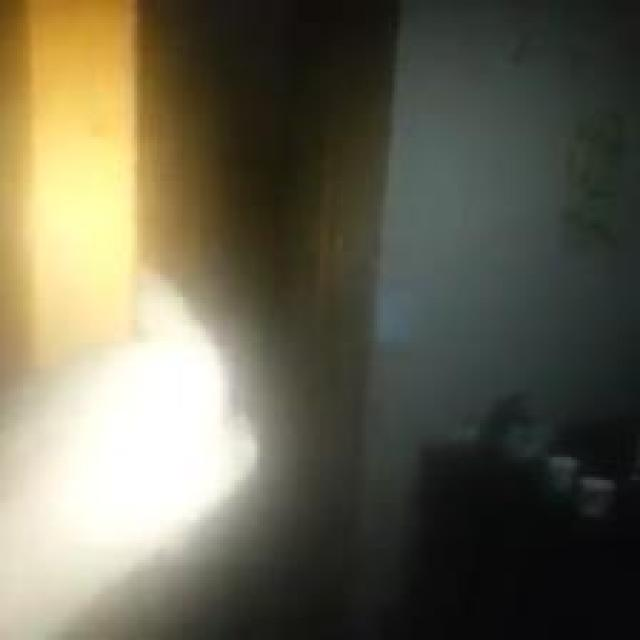other: (37, 342, 211, 558)
